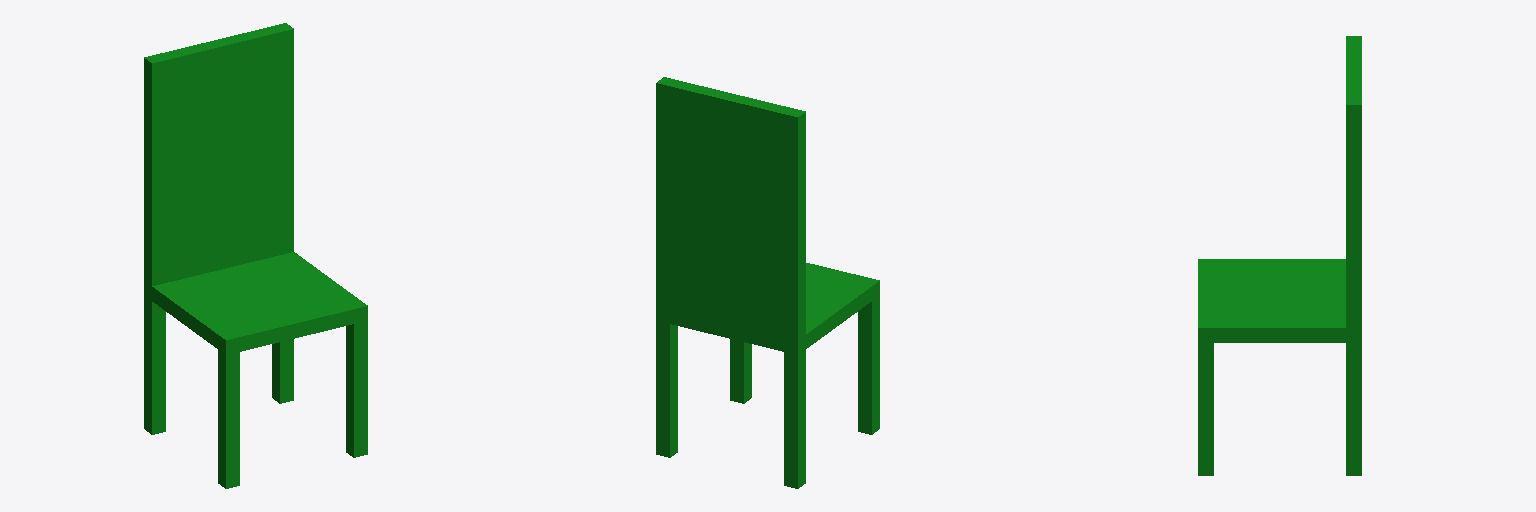
The model's file is cadeira_20260207213456.obj.
3 renders of one model, left to right at view 1: azimuth 30°, elevation 25°; view 2: azimuth 150°, elevation 25°; view 3: azimuth 270°, elevation 25°, orthographic.
Parts seen in each view (by area): view 1: encosto, assento, perna1, perna2, perna3, perna4; view 2: encosto, assento, perna3, perna4, perna1, perna2; view 3: assento, encosto, perna2, perna4.
Part boxes in pixels (left/top/right/bottom): encosto: left=144, top=23, right=293, bottom=285; assento: left=144, top=252, right=367, bottom=354; perna1: left=218, top=350, right=239, bottom=488; perna2: left=346, top=321, right=367, bottom=457; perna3: left=144, top=296, right=165, bottom=434; perna4: left=272, top=339, right=293, bottom=403; encosto: left=656, top=77, right=805, bottom=339; assento: left=656, top=263, right=879, bottom=354; perna3: left=784, top=350, right=805, bottom=488; perna4: left=656, top=321, right=677, bottom=457; perna1: left=858, top=296, right=879, bottom=434; perna2: left=730, top=339, right=751, bottom=403; assento: left=1198, top=259, right=1361, bottom=342; encosto: left=1346, top=36, right=1361, bottom=327; perna2: left=1198, top=343, right=1213, bottom=475; perna4: left=1346, top=343, right=1361, bottom=475.
Bounding box in the file's own units: 1 × 2.5 × 1.